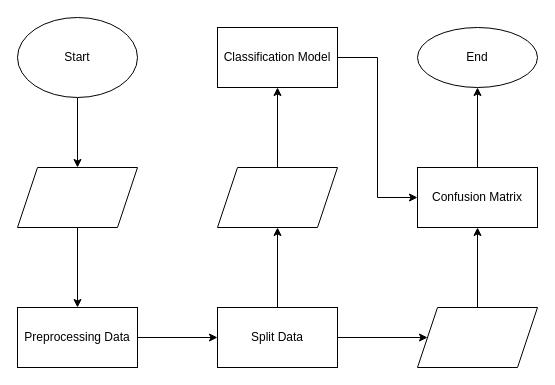
Some shapes in this 555 by 385 pixel diagram are drawn without their labels. Each missing label, with the box of its shape:
Dataset: (16, 166, 138, 228)
Testing Data: (416, 306, 538, 368)
Training Data: (216, 166, 338, 228)
